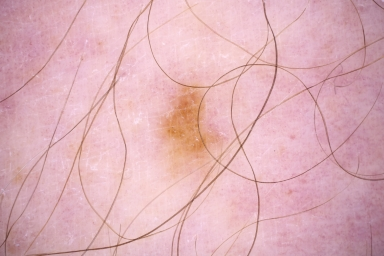nevus: (163, 93, 214, 154)
